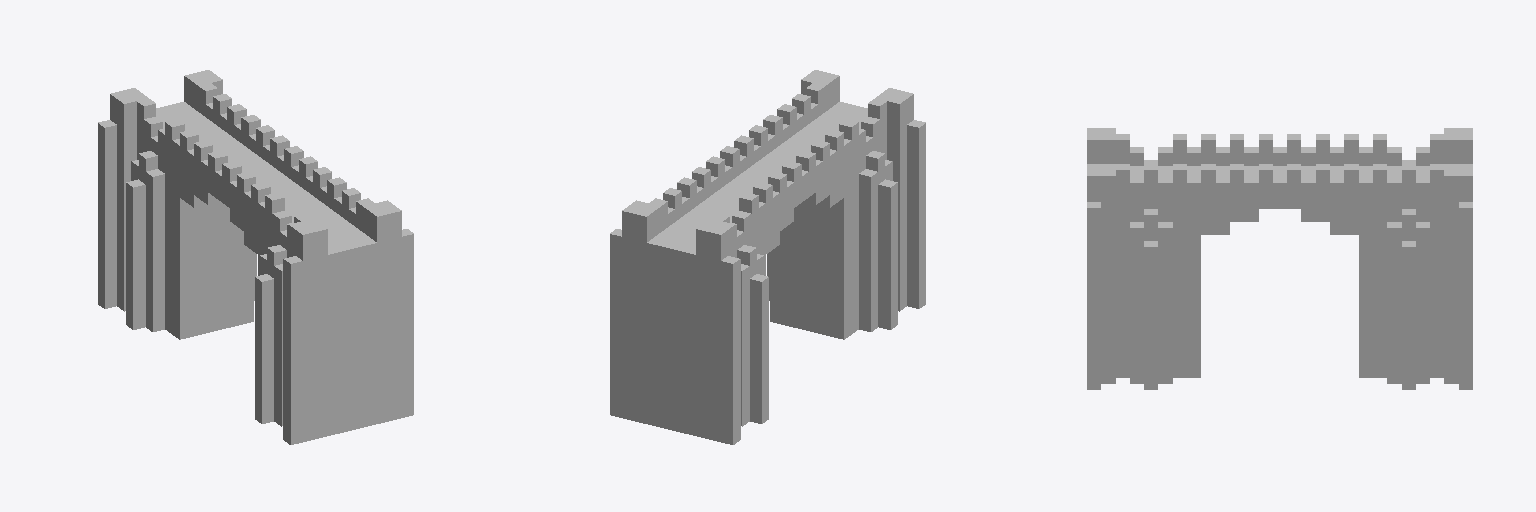
File: Wall1_gate 1.obj
3 renders of one model, left to right at view 1: azimuth 30°, elevation 25°; view 2: azimuth 150°, elevation 25°; view 3: azimuth 270°, elevation 25°, orthographic.
Bounding box in the file's own units: 10 × 16 × 27.